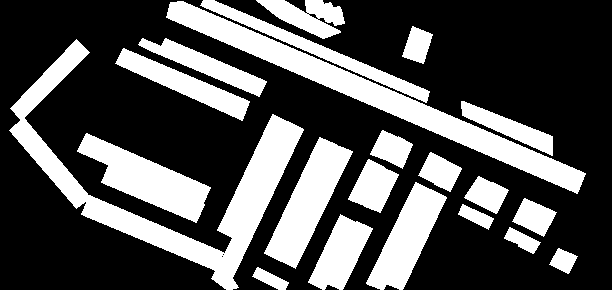parkingspot: (166, 1, 585, 193), (200, 0, 429, 102), (211, 121, 303, 290), (81, 195, 223, 270), (115, 48, 249, 120), (77, 133, 210, 205), (264, 137, 336, 261), (280, 144, 352, 268), (217, 114, 288, 238), (138, 38, 266, 96), (9, 117, 90, 208), (366, 182, 432, 290), (10, 39, 89, 120), (385, 189, 446, 290), (101, 163, 204, 222), (461, 101, 552, 155), (308, 214, 357, 290), (256, 0, 340, 38), (326, 221, 372, 290), (348, 159, 384, 206), (364, 167, 398, 212), (402, 26, 432, 63), (305, 0, 344, 25), (504, 227, 540, 253), (528, 204, 556, 236), (458, 204, 493, 229), (464, 176, 493, 206), (418, 152, 446, 183), (370, 130, 398, 160), (512, 198, 540, 228), (434, 160, 461, 191), (481, 182, 508, 213), (386, 136, 412, 168), (252, 267, 288, 290), (549, 248, 577, 273)
